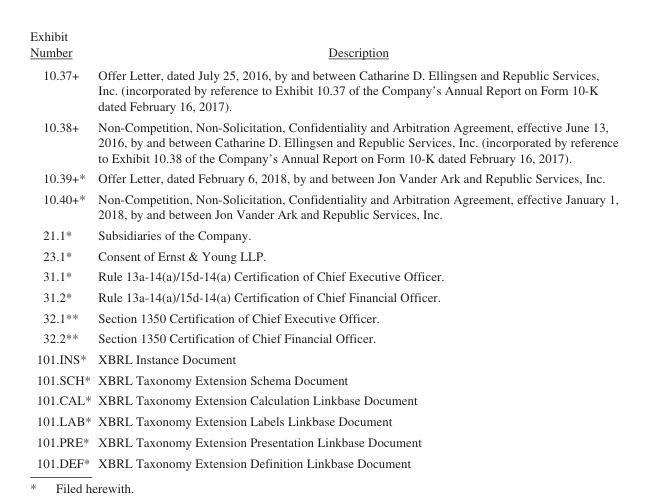table: (29, 28, 617, 469)
table column: (94, 28, 617, 469), (29, 28, 94, 469)
table column header: (29, 28, 617, 62)
table row: (29, 62, 617, 115), (29, 115, 617, 167), (29, 188, 617, 224), (29, 28, 617, 62), (29, 167, 617, 188), (29, 224, 617, 245), (29, 265, 617, 286), (29, 286, 617, 307), (29, 327, 617, 348), (29, 348, 617, 369), (29, 389, 617, 410), (29, 410, 617, 431), (29, 245, 617, 265), (29, 307, 617, 327), (29, 369, 617, 389), (29, 431, 617, 451), (29, 451, 617, 469)
